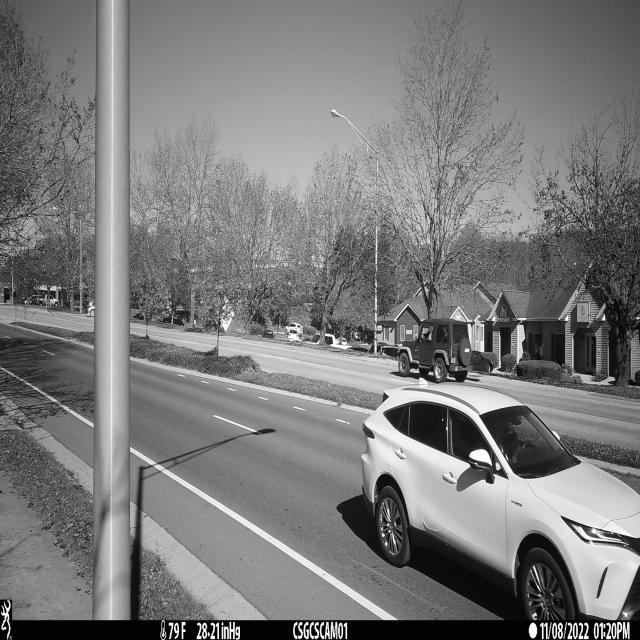SUV: (361, 376, 640, 623)
